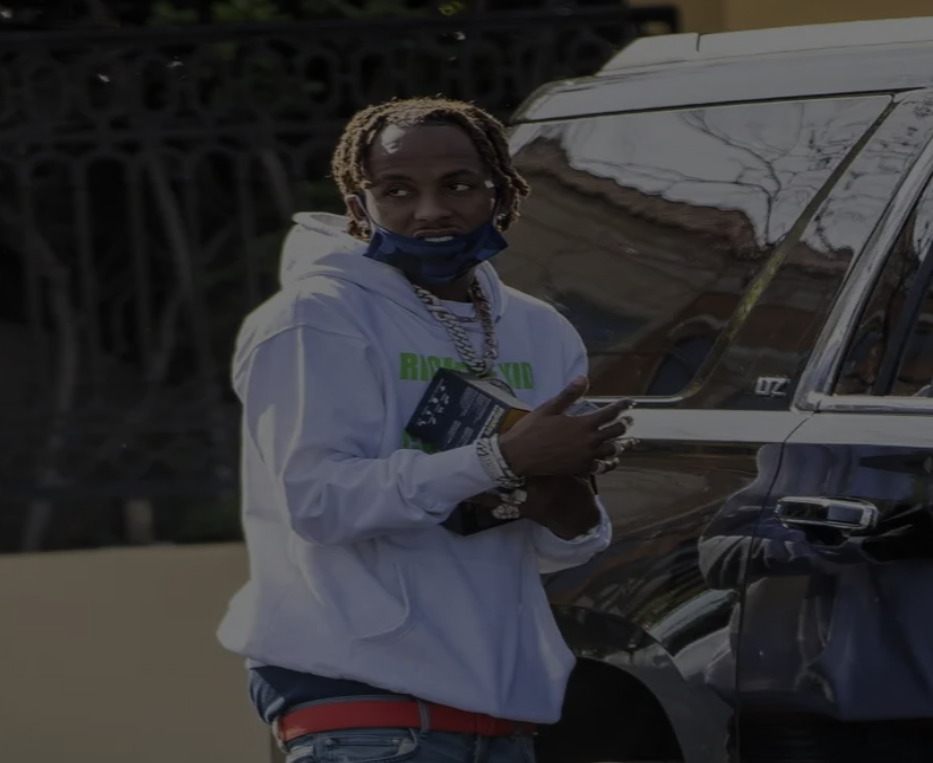mask_weared_incorrect: (332, 97, 527, 288)
